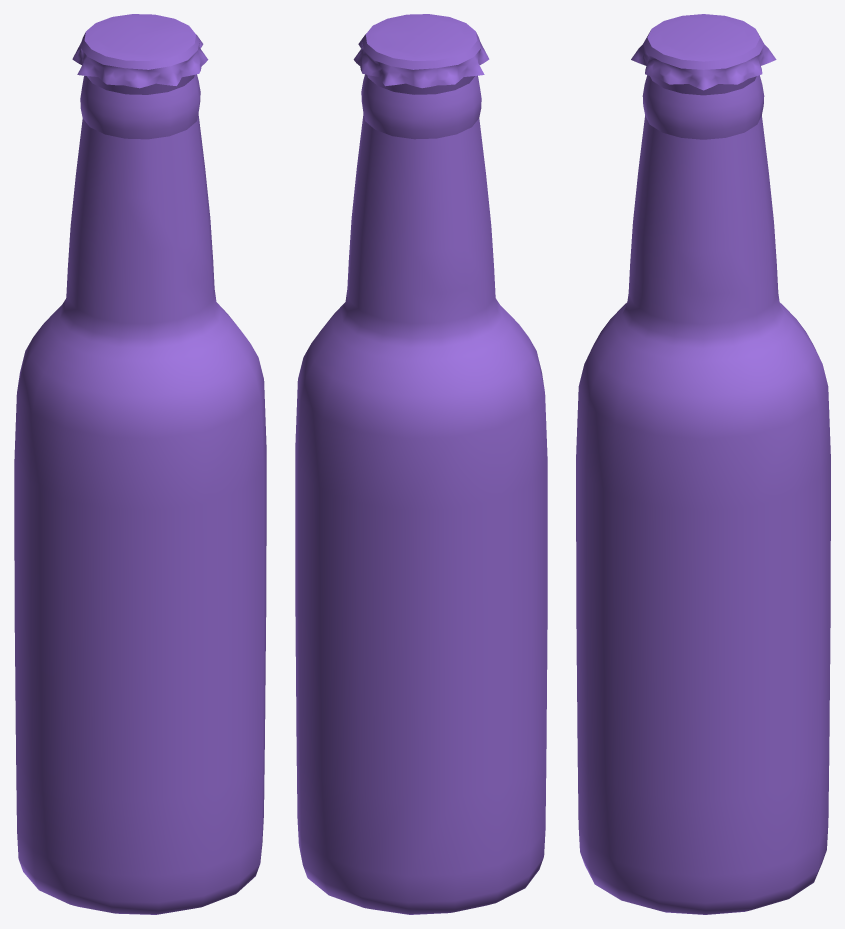
File: Bottle.obj
3 views of the same model, side by side, from view 1: azimuth 30°, elevation 25°; view 2: azimuth 150°, elevation 25°; view 3: azimuth 270°, elevation 25° (orthographic).
Parts seen in each view (by area): view 1: beer_bottle_hq001; view 2: beer_bottle_hq001; view 3: beer_bottle_hq001.
Boxes of the visible parts, x1=… form: beer_bottle_hq001: x1=14, y1=14, x2=266, y2=914; beer_bottle_hq001: x1=295, y1=14, x2=547, y2=914; beer_bottle_hq001: x1=576, y1=14, x2=830, y2=914.
Bounding box in the file's own units: 0.1183 × 0.4293 × 0.1183.
